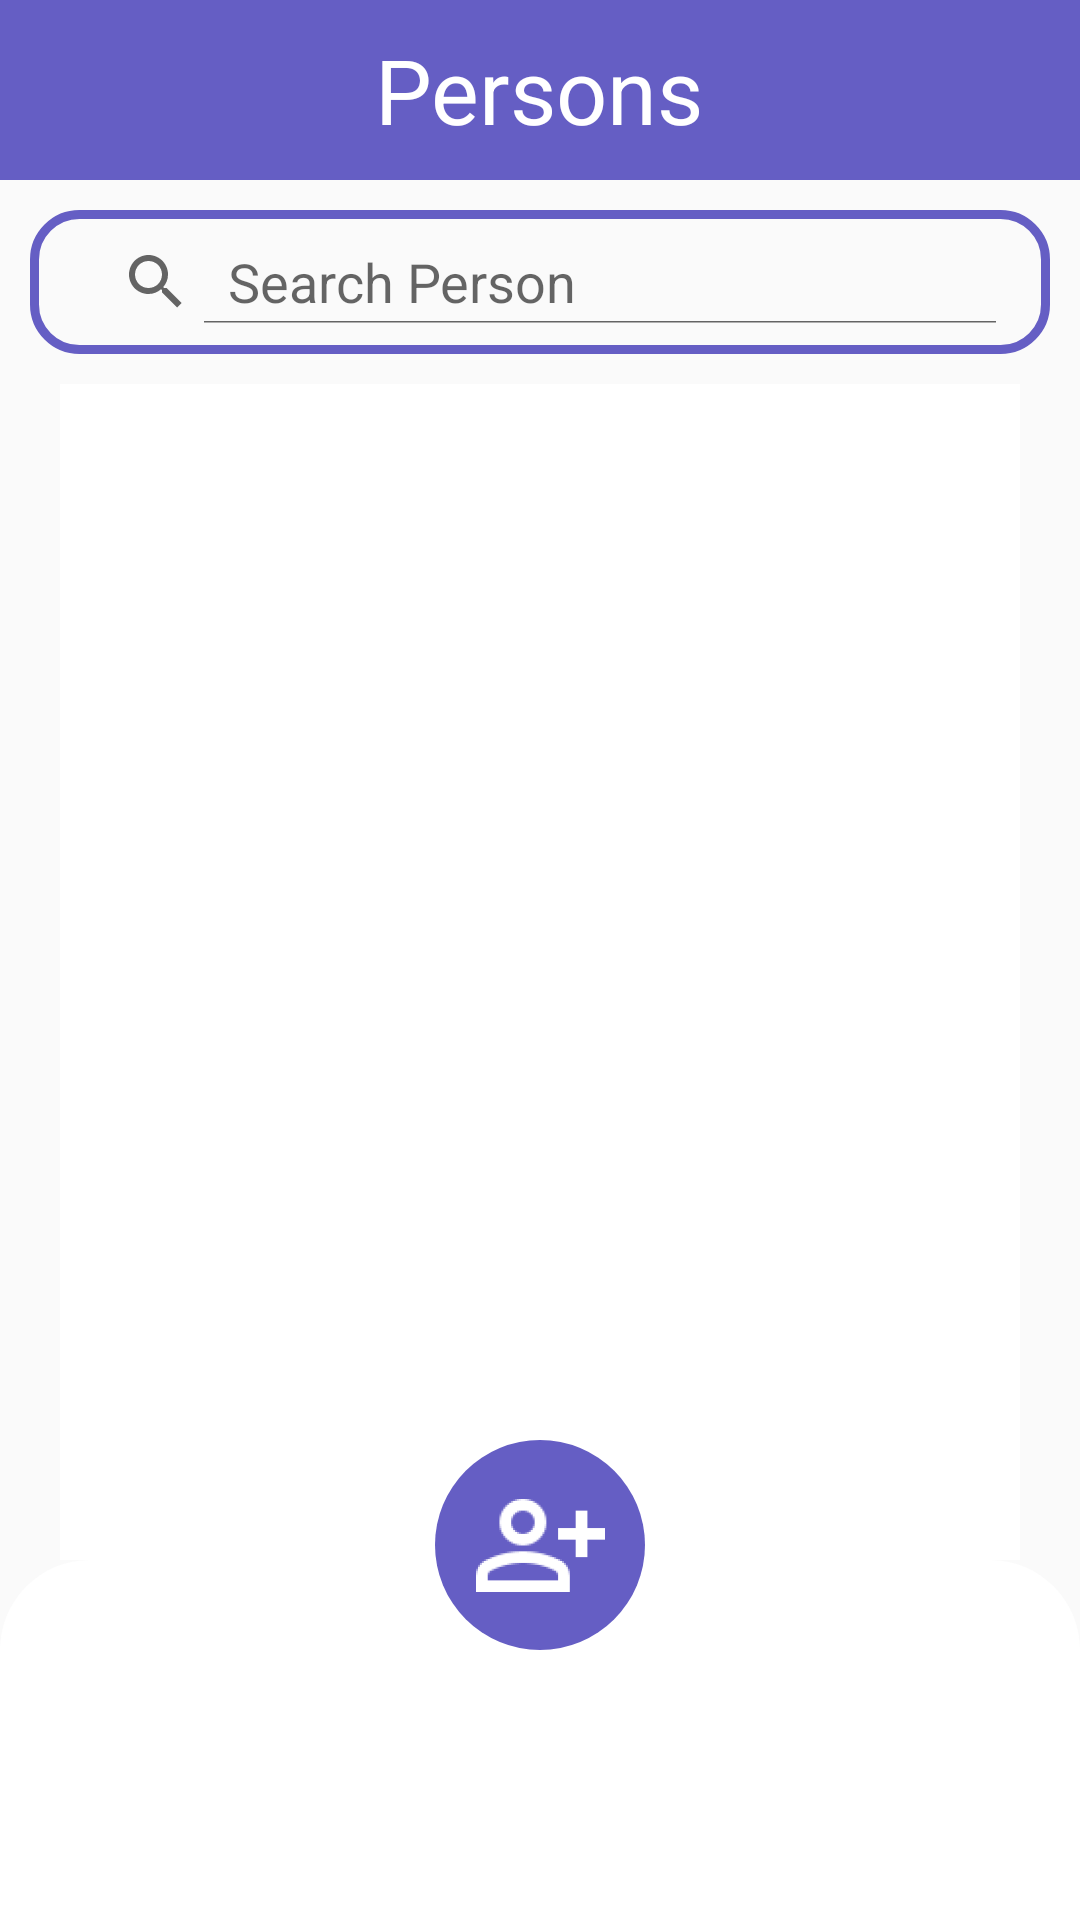

Where to tap for icons on this 1080px x 1920px app screen, as (x,y):
add person: (540,1545)
